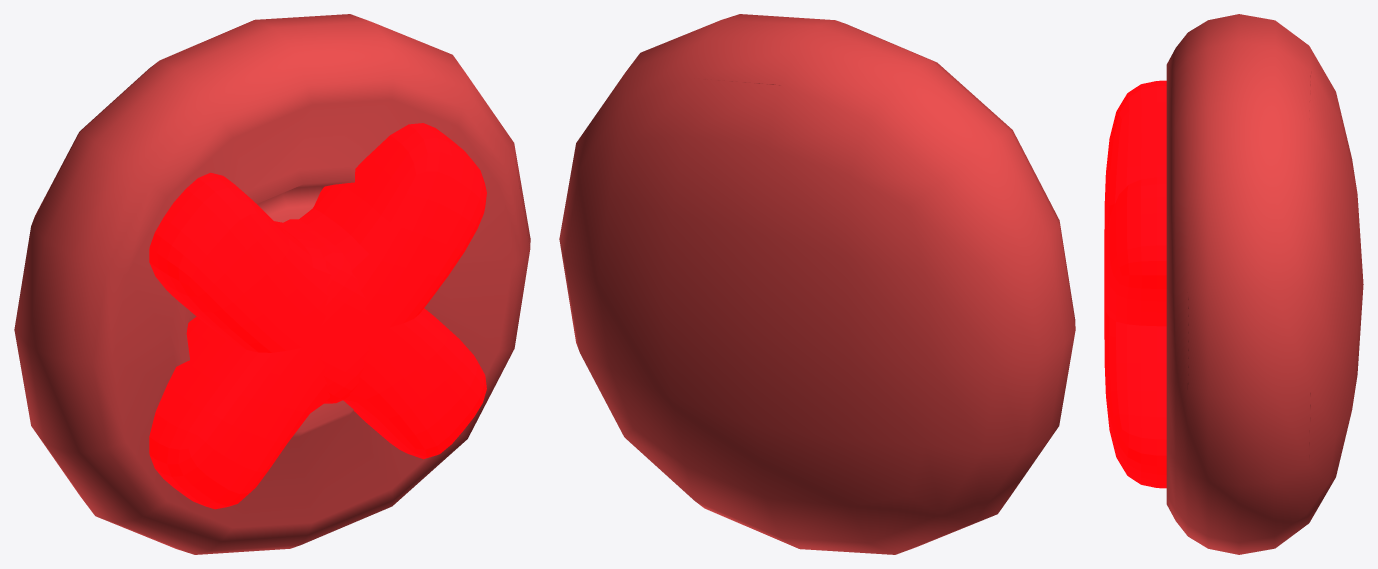
Rendered from orbWrong.fbx.
3 renders of one model, left to right at view 1: azimuth 30°, elevation 25°; view 2: azimuth 150°, elevation 25°; view 3: azimuth 270°, elevation 25°, orthographic. The views are drawn at different scales.
Parts seen in each view (by area): view 1: Cube.008, Cube.009, Cube.006; view 2: Cube.008; view 3: Cube.008, Cube.009, Cube.006.
Part boxes in pixels (x1,y1,x2,y2): Cube.008: [14, 14, 530, 554]; Cube.009: [149, 123, 486, 403]; Cube.006: [149, 219, 486, 509]; Cube.008: [559, 14, 1075, 554]; Cube.008: [1166, 14, 1363, 554]; Cube.009: [1104, 80, 1166, 326]; Cube.006: [1104, 239, 1166, 488].
Bounding box in the file's own units: 179 × 179 × 86.63.
2 materials, 2 textured.
